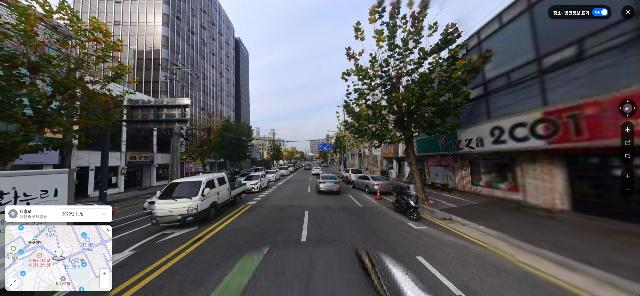other: (335, 0, 495, 203), (1, 0, 137, 165), (188, 109, 256, 178)
